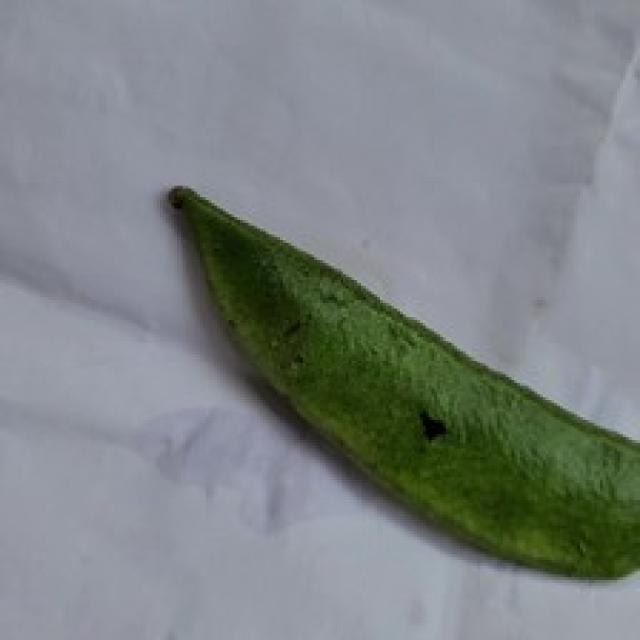Bean: (163, 180, 637, 583)
